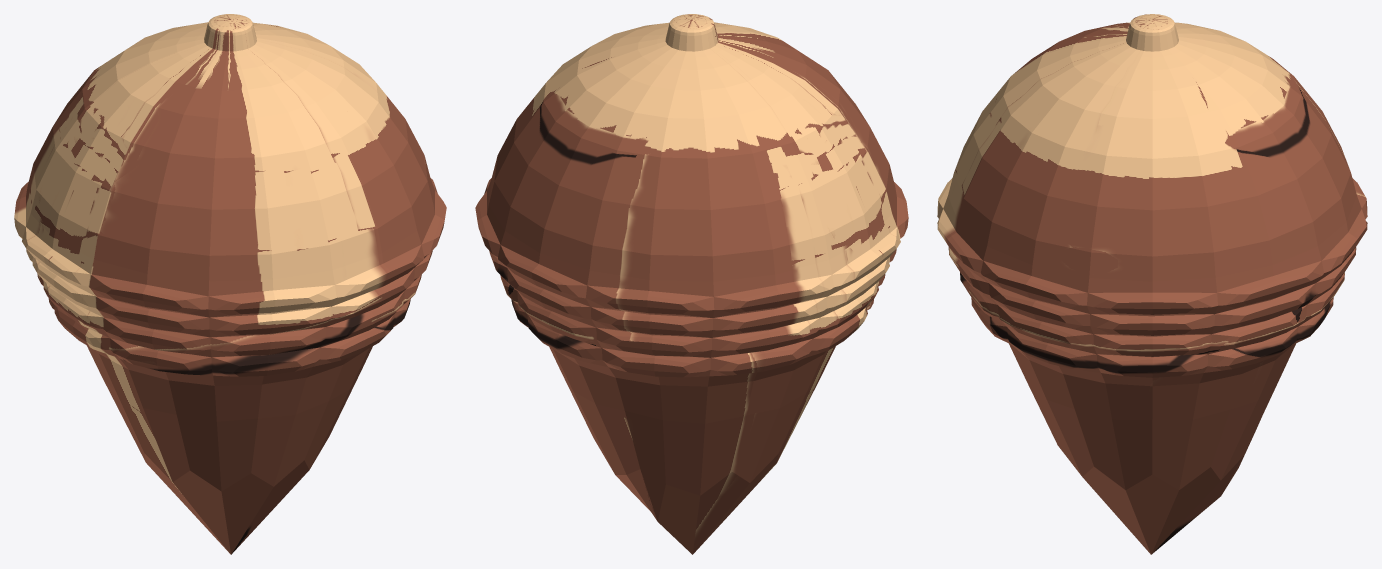
File: Piao.fbx
3 views of the same model, side by side, from view 1: azimuth 30°, elevation 25°; view 2: azimuth 150°, elevation 25°; view 3: azimuth 270°, elevation 25° (orthographic).
Visible parts, largest first — view 1: Sphere; view 2: Sphere; view 3: Sphere.
Boxes of the visible parts, bbox=[...] form: Sphere: bbox=[14, 14, 446, 554]; Sphere: bbox=[475, 14, 908, 554]; Sphere: bbox=[937, 14, 1367, 554].
Size of the model in its own units: 151 by 207 by 151.
